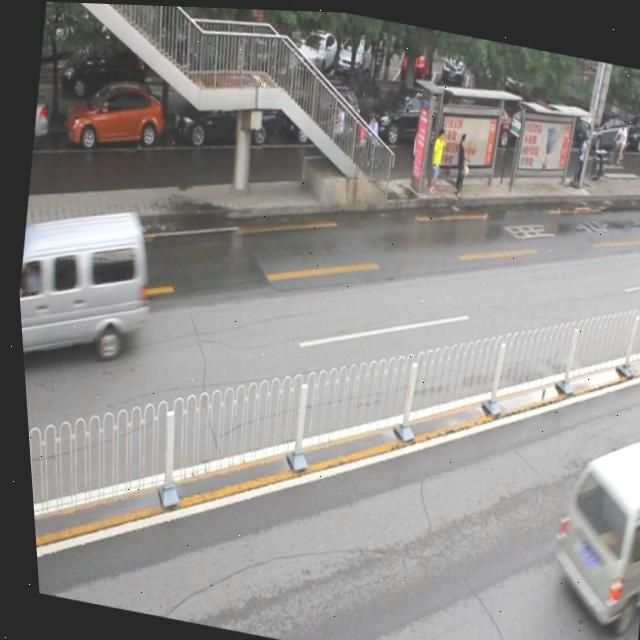car: (57, 68, 168, 160), (169, 79, 279, 154), (270, 77, 366, 157), (361, 80, 455, 157), (27, 86, 57, 155)
truck: (10, 194, 162, 386), (530, 413, 640, 631)
